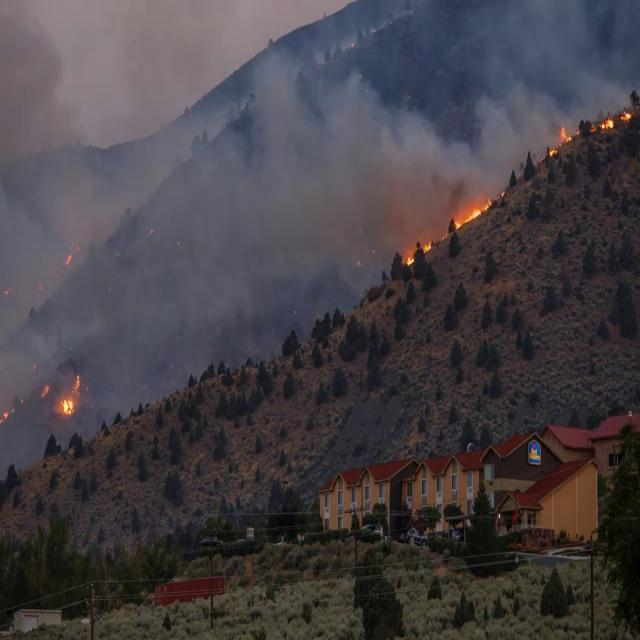Fire: (454, 198, 494, 228), (60, 378, 82, 417), (560, 125, 572, 144), (598, 116, 614, 130), (1, 408, 11, 423), (66, 252, 76, 266), (422, 240, 432, 253), (42, 382, 48, 400), (404, 256, 414, 266), (620, 110, 631, 119), (550, 148, 556, 158)
Smoke: (2, 2, 638, 477), (0, 7, 132, 245)
